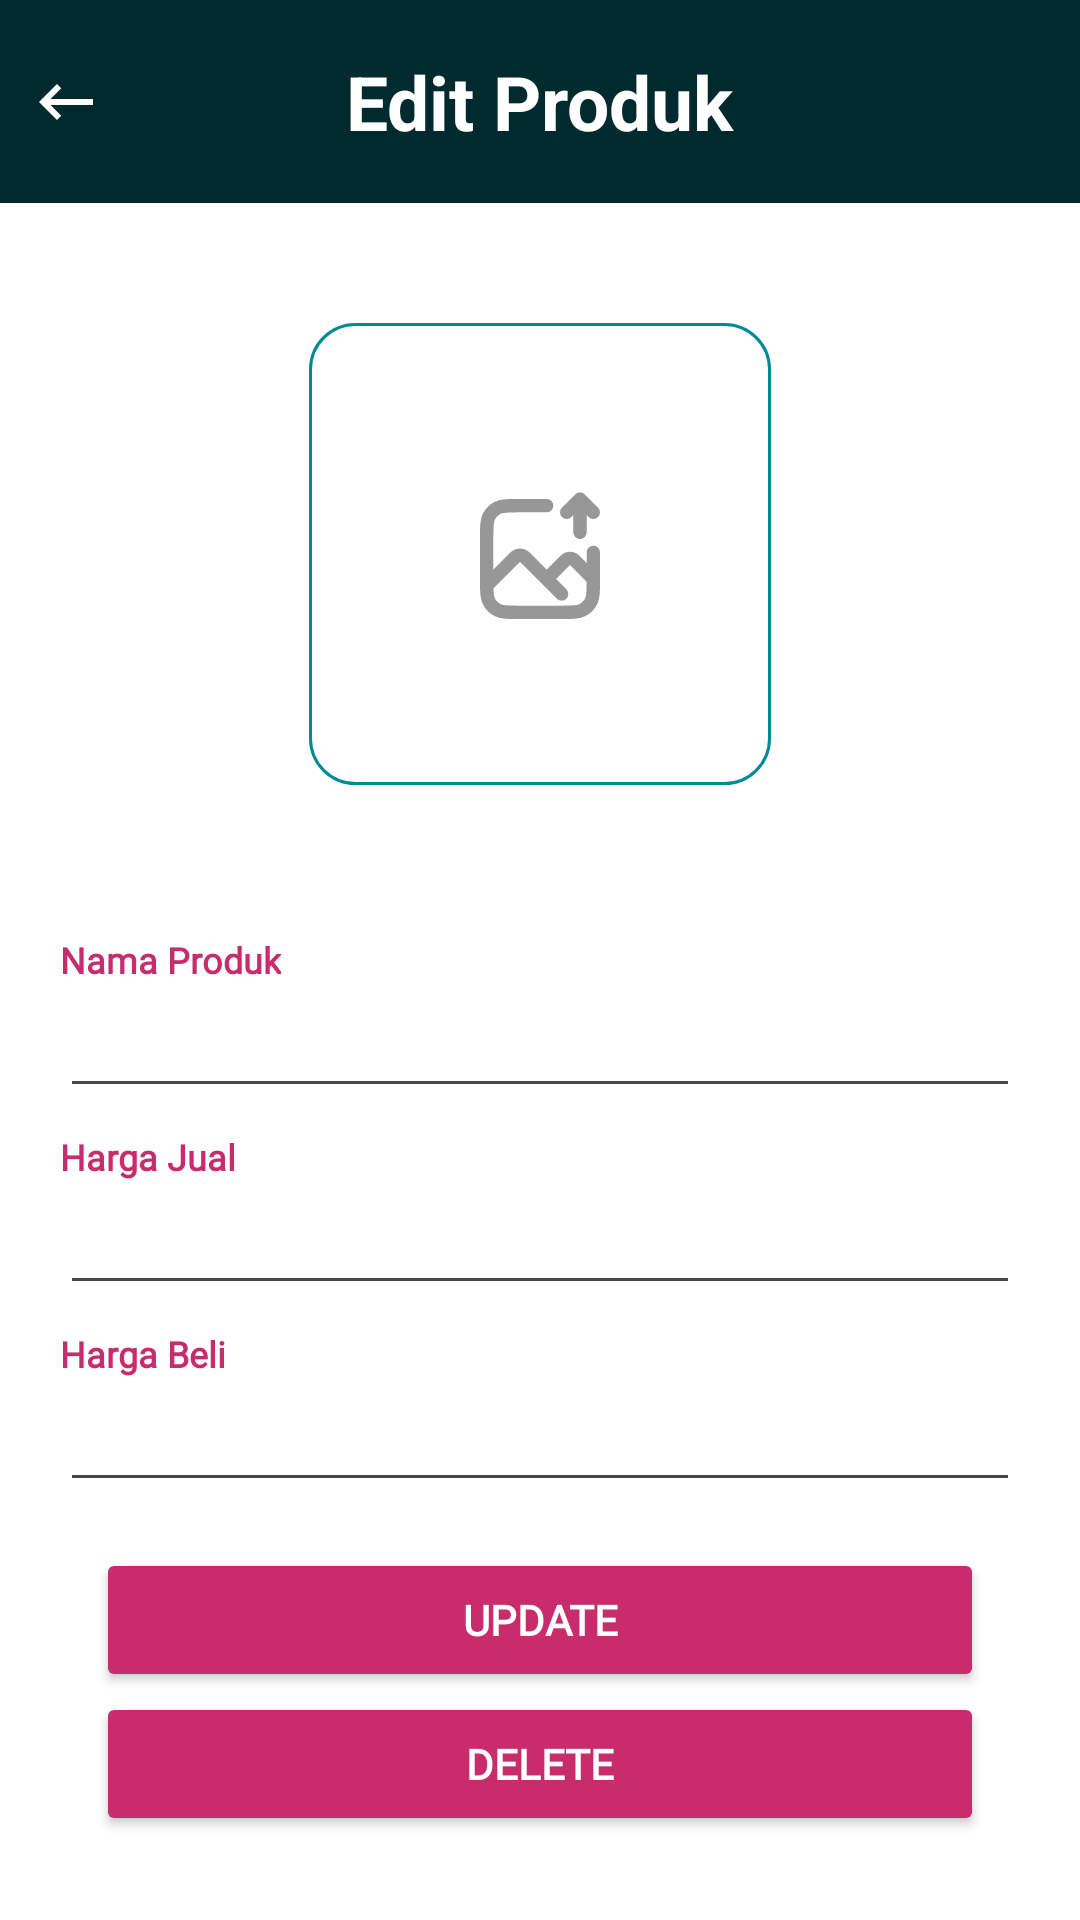

Named icons in this screenshot (1080×1920) and their bounding boxes, region(x1, y1, x2, y2):
back button: region(39, 84, 93, 120)
upload image: region(480, 492, 600, 619)
